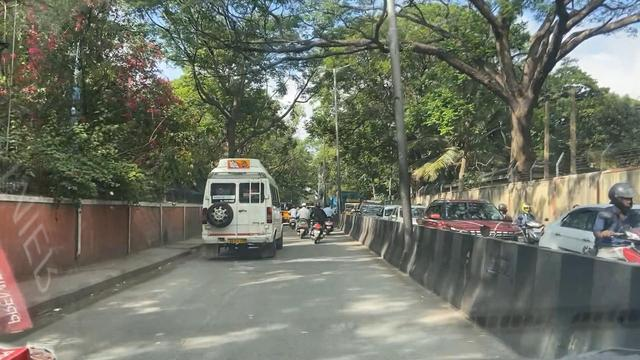HMV: (203, 157, 272, 257)
LMV: (308, 197, 328, 242)
